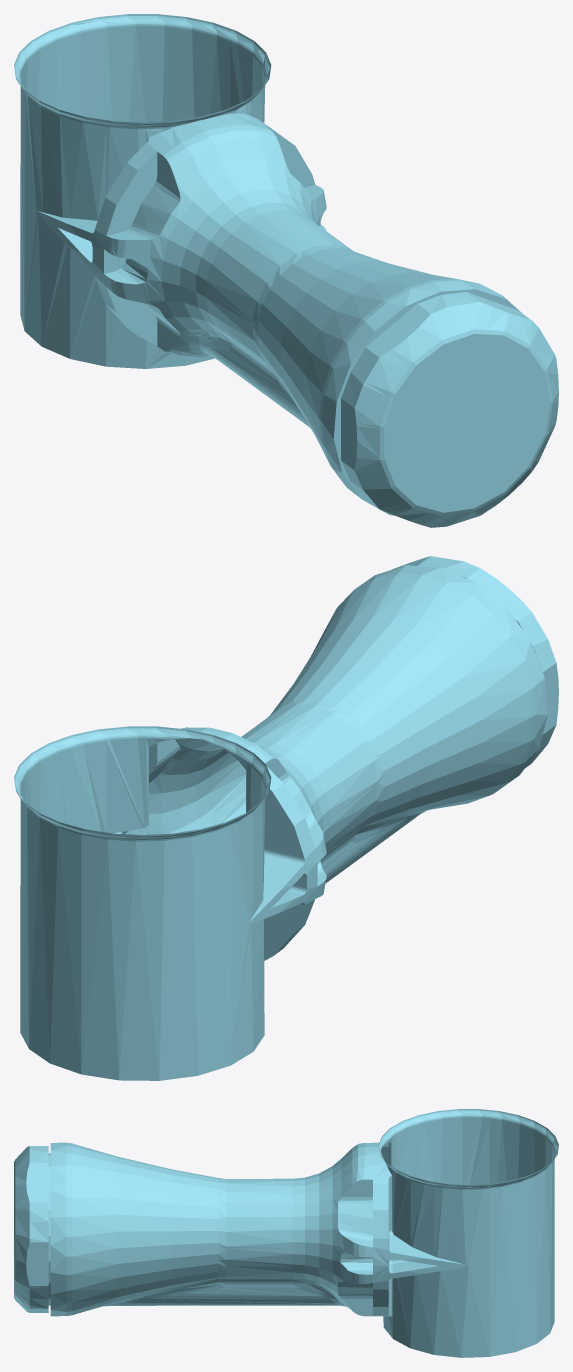
3 renders of one model, top to bottom at view 1: azimuth 30°, elevation 25°; view 2: azimuth 150°, elevation 25°; view 3: azimuth 270°, elevation 25°, orthographic. The views are drawn at different scales.
Parts seen in each view (by area): view 1: link4; view 2: link4; view 3: link4.
Boxes of the visible parts, x1,y1,x2,y2 form: link4: (14,14,558,527); link4: (14,556,558,1080); link4: (14,1109,558,1357).
Size of the model in its own units: 0.1036 by 0.1108 by 0.3134.
